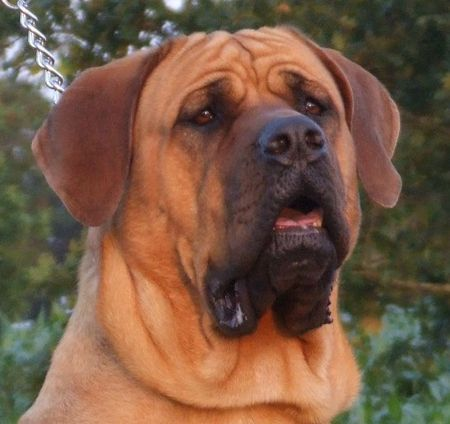tosa_inu: (16, 23, 402, 424)
